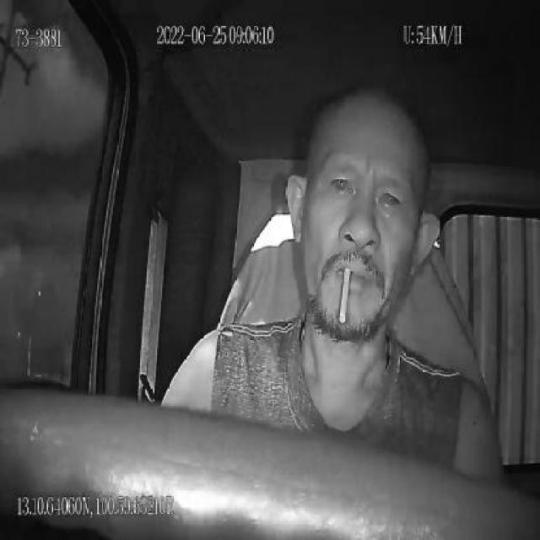smoking: (338, 267, 352, 325)
